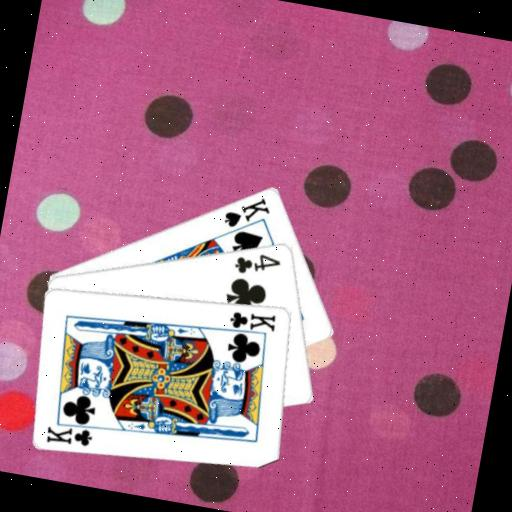4C: (230, 245, 284, 281)
KC: (221, 303, 279, 341), (42, 414, 100, 452)
KS: (218, 187, 273, 235)
